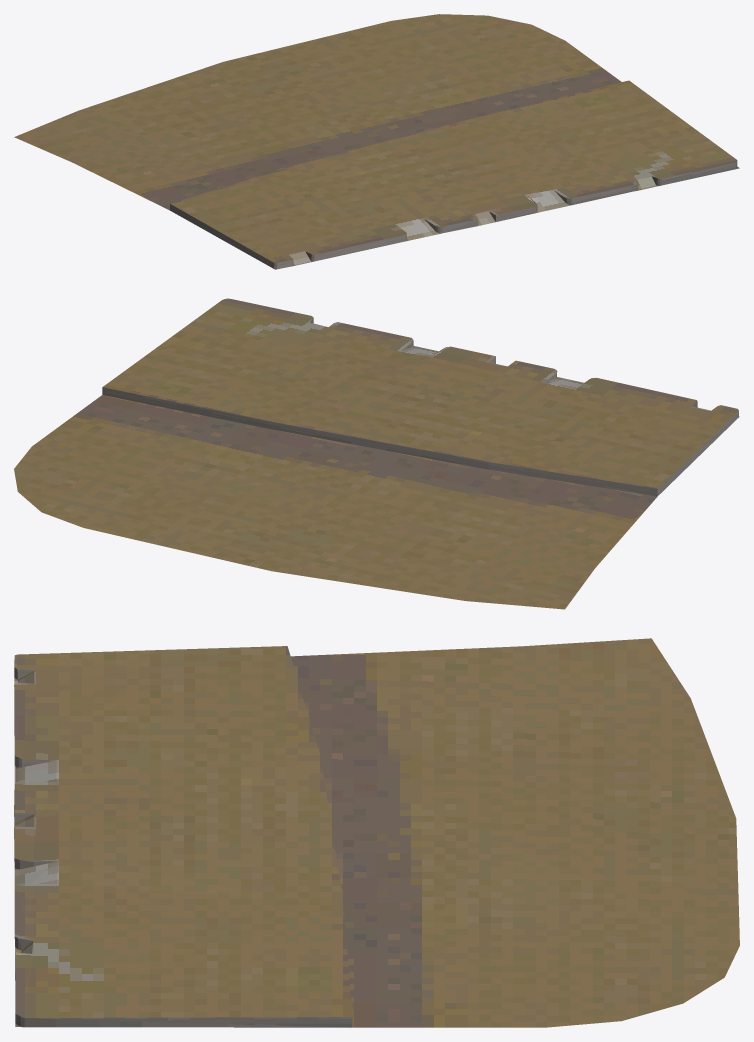
The model's file is lodxsglenpark01.obj.
The picture shows the model from 3 angles, top to bottom: view 1: azimuth 30°, elevation 25°; view 2: azimuth 150°, elevation 25°; view 3: azimuth 270°, elevation 25°; orthographic projection. The views are drawn at different scales.
Visible parts, largest first — view 1: LODxsGlenPark01; view 2: LODxsGlenPark01; view 3: LODxsGlenPark01.
Boxes of the visible parts, <box> form: LODxsGlenPark01: <box>14,14,739,269</box>; LODxsGlenPark01: <box>14,298,739,609</box>; LODxsGlenPark01: <box>14,638,739,1027</box>.
Size of the model in its own units: 93.55 by 3.28 by 74.92.
Materials: 2 (2 with a texture image).
